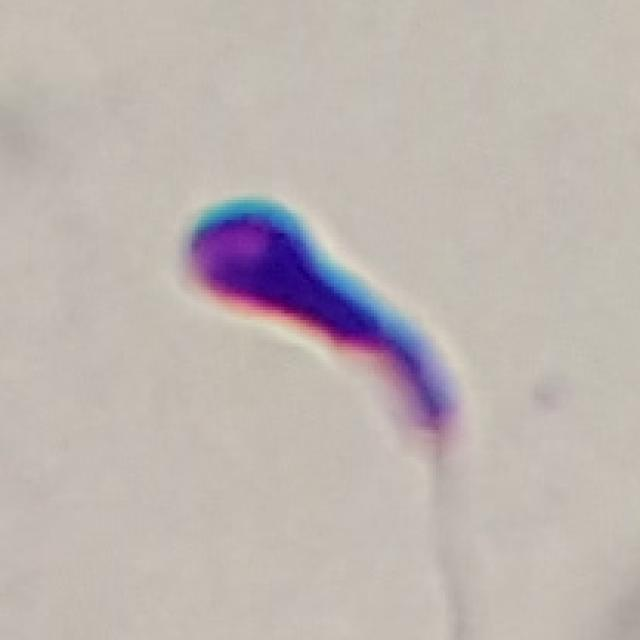abnormal sperm: (173, 202, 498, 540)
